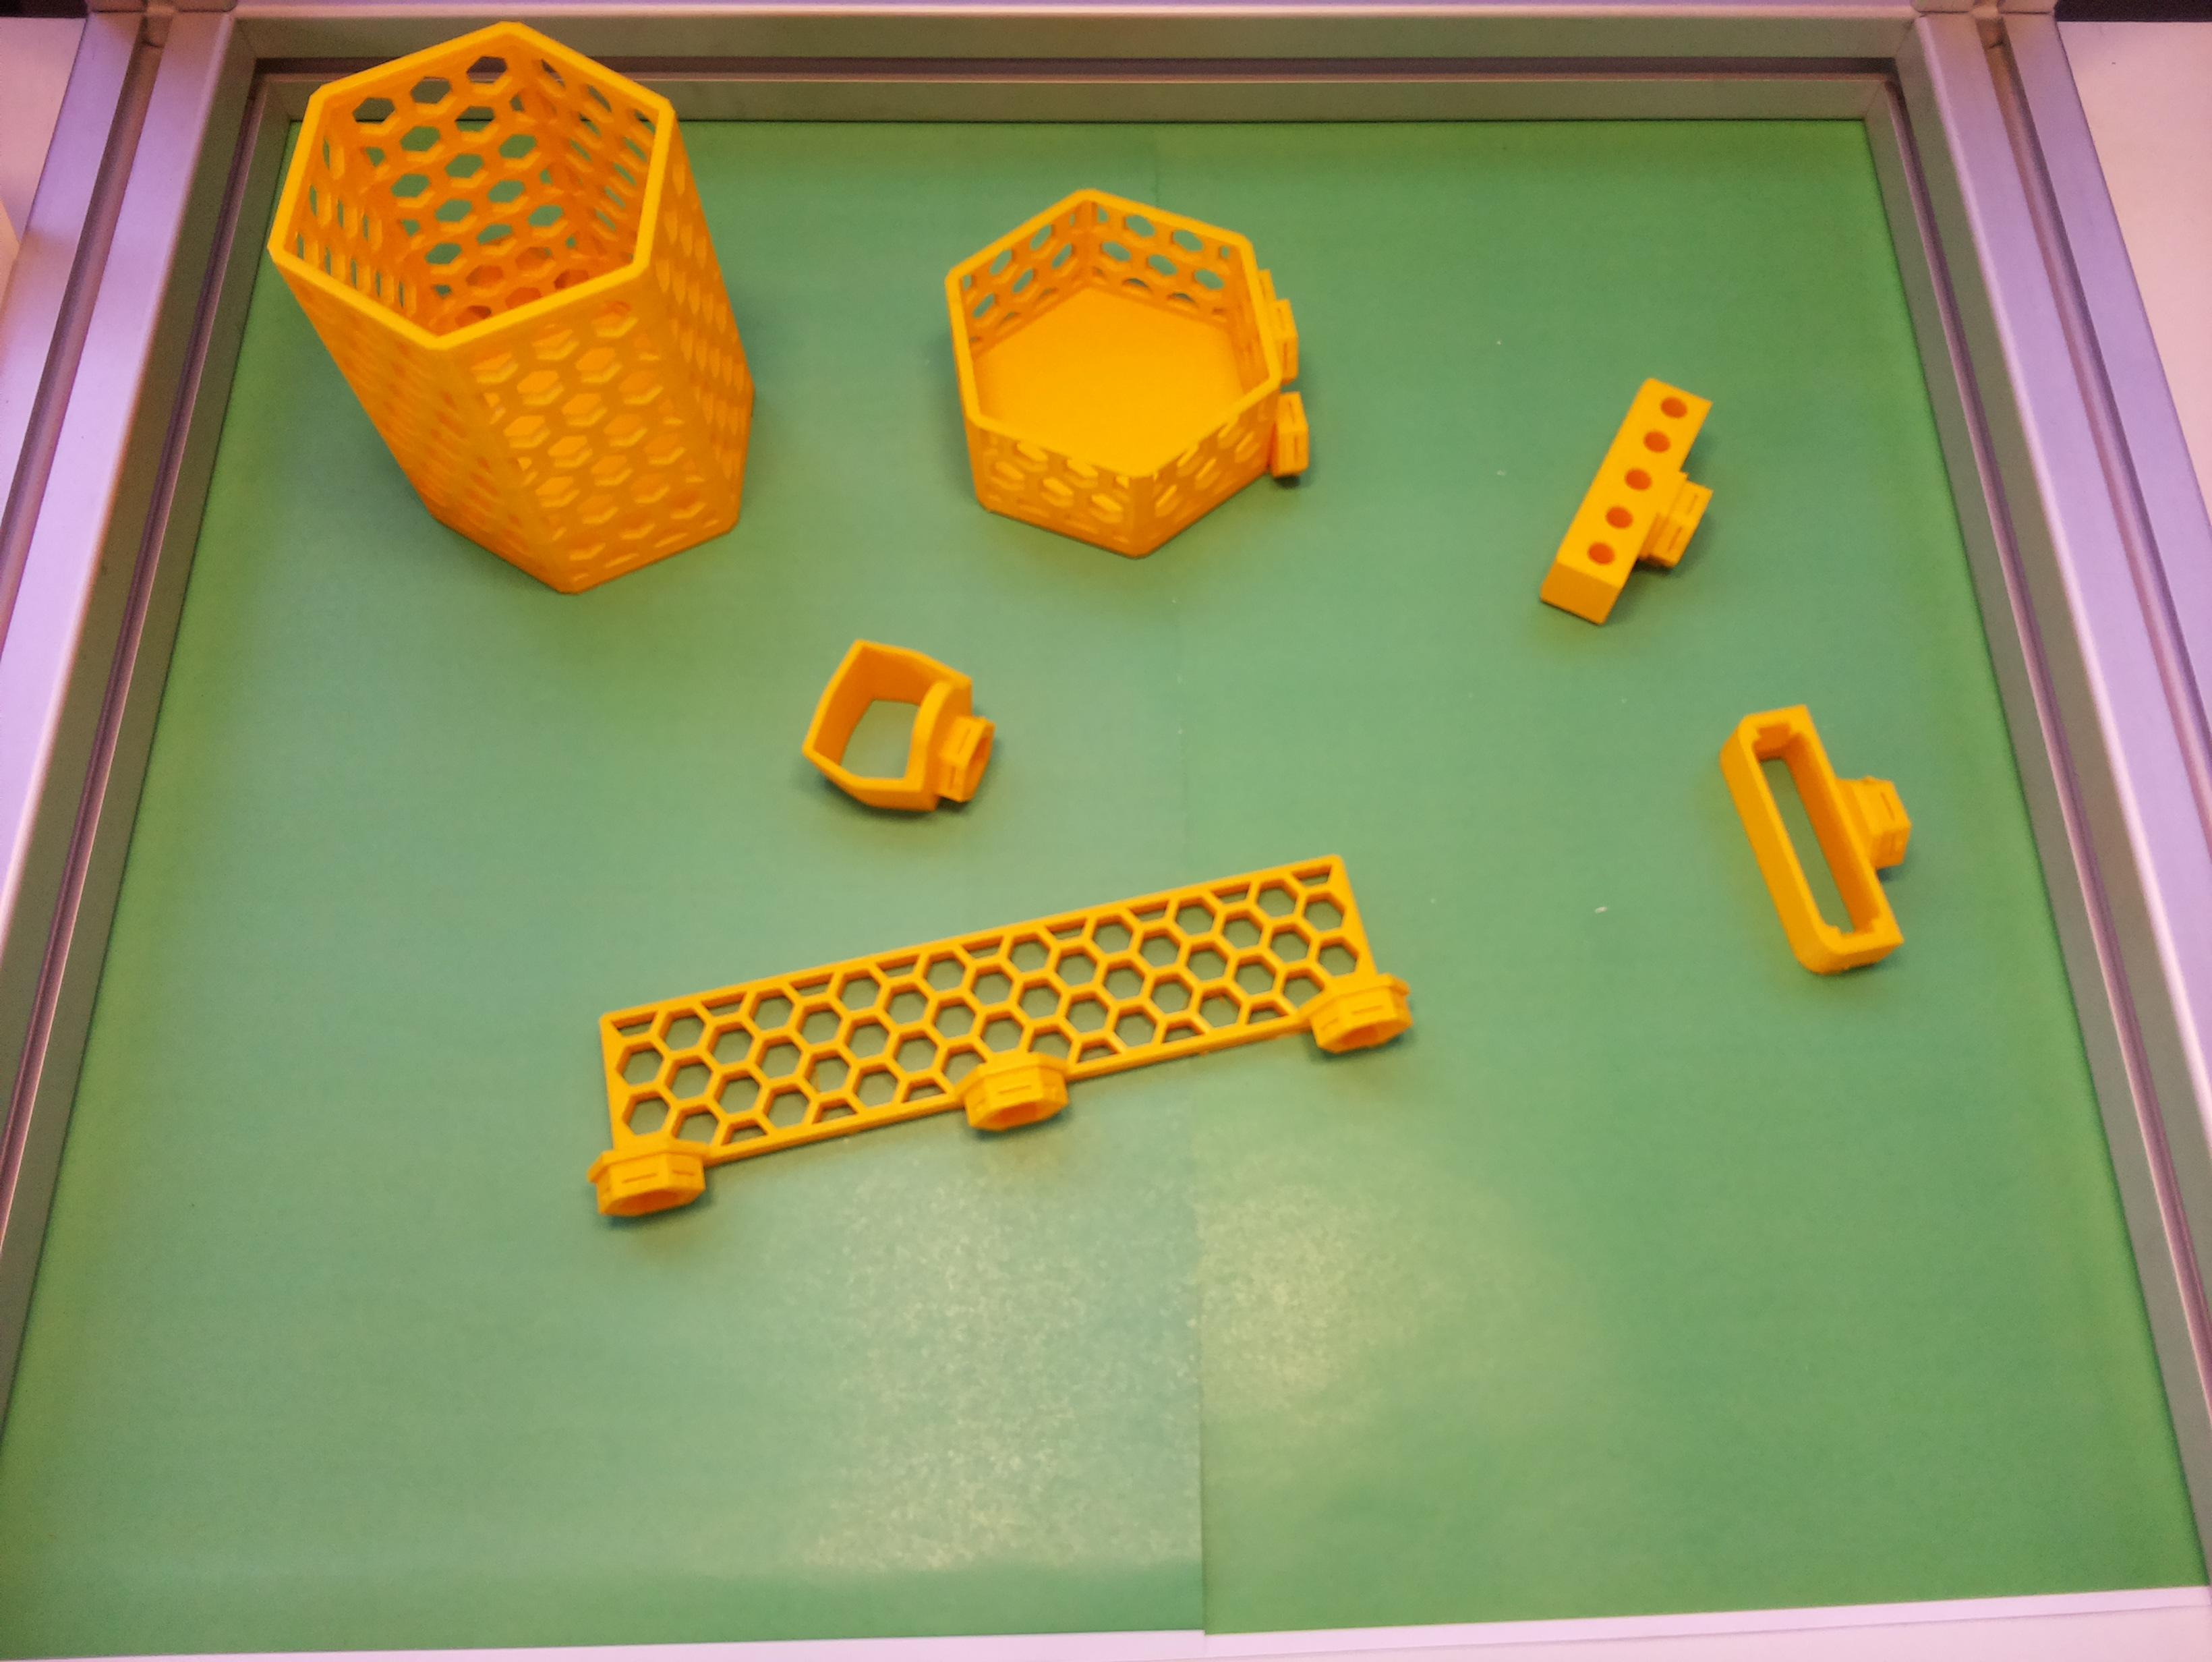bit_holder: (1535, 370, 1748, 648)
bottle_holder: (931, 159, 1330, 581)
cutter_holder: (1707, 676, 1954, 988)
scissor_holder: (791, 625, 1014, 840)
tool_holder: (553, 836, 1419, 1226)
